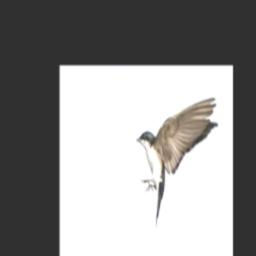Swallow: (137, 97, 219, 231)
